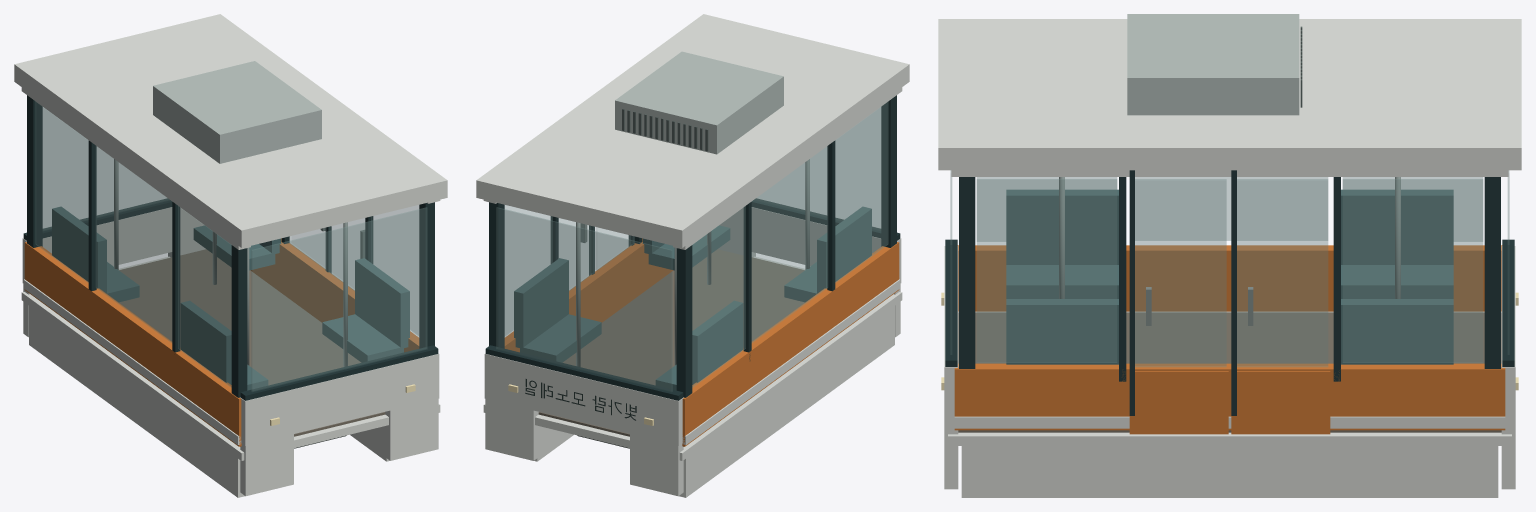
File: bitgaram-monorail.glb
3 renders of one model, left to right at view 1: azimuth 30°, elevation 25°; view 2: azimuth 150°, elevation 25°; view 3: azimuth 270°, elevation 25°, orthographic. The views are drawn at different scales.
Parts seen in each view (by area): view 1: cab_roof, cab_end_glass.001, cab_floor, cab_roof_aircon, cab_side_glass.002, cab_orange_sill, cab_end_lower_panel.001, cab_lower_cheek, cab_side_glass.001, cab_side_glass, cab_end_glass, cab_orange_sill.001 (+25 smaller); view 2: cab_roof, cab_end_glass, cab_floor, cab_roof_aircon, cab_side_glass.002, cab_orange_sill, cab_end_lower_panel, cab_lower_cheek, cab_side_glass, cab_side_glass.001, cab_end_glass.001, cab_orange_sill.001 (+26 smaller); view 3: cab_roof, cab_lower_cheek.001, cab_side_glass.003, cab_side_glass.004, cab_orange_sill.001, cab_roof_aircon, cab_orange_sill, door_glass.001, door_glass, cab_floor, cab_side_glass.002, cab_seat_back (+26 smaller).
Part boxes in pixels (x1=…): cab_roof: x1=14, y1=14, x2=447, y2=247; cab_end_glass.001: x1=251, y1=207, x2=427, y2=391; cab_floor: x1=119, y1=249, x2=385, y2=436; cab_roof_aircon: x1=153, y1=61, x2=321, y2=163; cab_side_glass.002: x1=96, y1=146, x2=171, y2=342; cab_orange_sill: x1=24, y1=242, x2=241, y2=446; cab_end_lower_panel.001: x1=240, y1=353, x2=439, y2=445; cab_lower_cheek: x1=29, y1=306, x2=244, y2=497; cab_side_glass.001: x1=178, y1=206, x2=231, y2=387; cab_side_glass: x1=35, y1=102, x2=88, y2=282; cab_end_glass: x1=43, y1=107, x2=168, y2=230; cab_orange_sill.001: x1=251, y1=238, x2=419, y2=352; cab_roof: x1=476, y1=14, x2=909, y2=247; cab_end_glass: x1=496, y1=207, x2=672, y2=391; cab_floor: x1=538, y1=249, x2=804, y2=436; cab_roof_aircon: x1=615, y1=51, x2=783, y2=154; cab_side_glass.002: x1=752, y1=146, x2=827, y2=342; cab_orange_sill: x1=682, y1=242, x2=899, y2=446; cab_end_lower_panel: x1=484, y1=353, x2=683, y2=445; cab_lower_cheek: x1=679, y1=306, x2=894, y2=497; cab_side_glass: x1=692, y1=206, x2=745, y2=387; cab_side_glass.001: x1=835, y1=102, x2=888, y2=282; cab_end_glass.001: x1=755, y1=107, x2=880, y2=230; cab_orange_sill.001: x1=504, y1=238, x2=672, y2=352; cab_roof: x1=938, y1=19, x2=1521, y2=170; cab_lower_cheek.001: x1=961, y1=446, x2=1498, y2=497; cab_side_glass.003: x1=1343, y1=179, x2=1482, y2=362; cab_side_glass.004: x1=977, y1=179, x2=1116, y2=362; cab_orange_sill.001: x1=954, y1=363, x2=1505, y2=430; cab_roof_aircon: x1=1127, y1=14, x2=1299, y2=115; cab_orange_sill: x1=957, y1=245, x2=1502, y2=311; door_glass.001: x1=1135, y1=179, x2=1226, y2=366; door_glass: x1=1237, y1=179, x2=1327, y2=366; cab_floor: x1=958, y1=312, x2=1501, y2=432; cab_side_glass.002: x1=1135, y1=177, x2=1327, y2=240; cab_seat_back: x1=1341, y1=189, x2=1453, y2=264.
Bounding box in the file's own units: 2.23 × 3.14 × 4.24.
